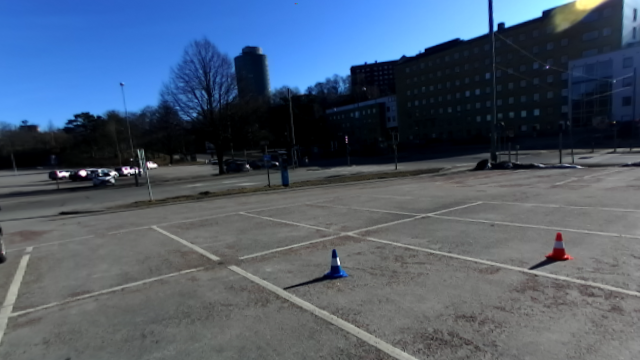blue: (322, 246, 350, 280)
orange: (544, 230, 574, 264)
